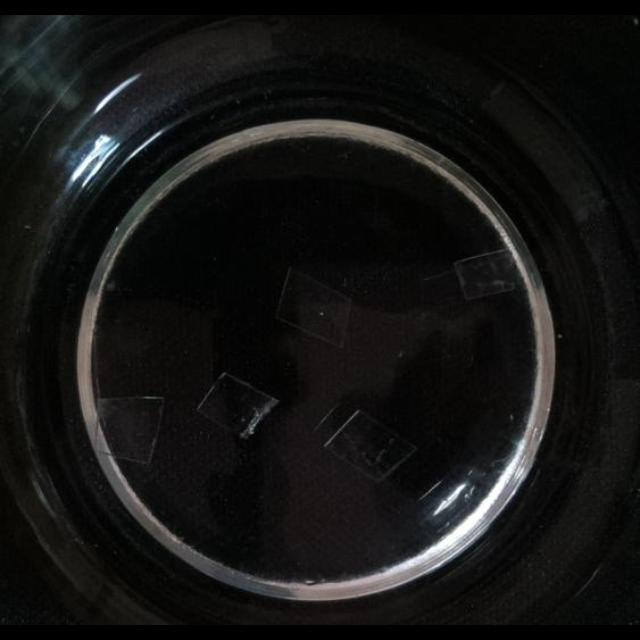Film: (325, 402, 415, 481), (274, 265, 356, 349), (195, 371, 282, 442), (91, 392, 161, 468), (452, 250, 520, 300)
